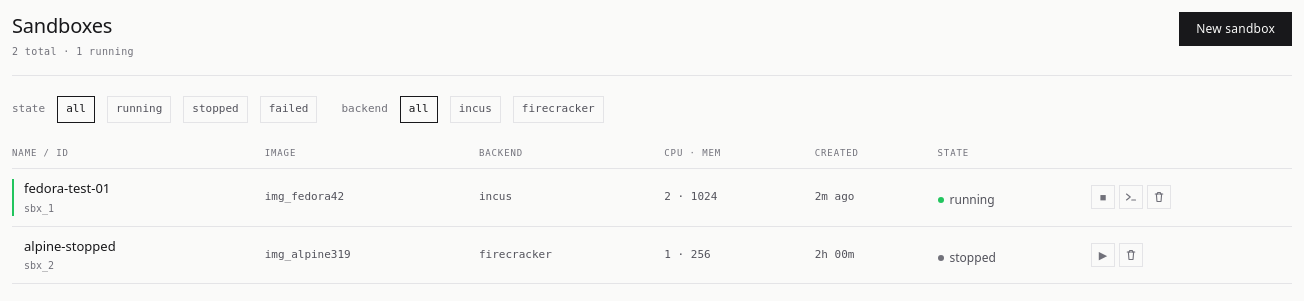
it: Sandboxes list › filters by state when a chip is clicked
Expected: the link "fedora-test-01" is shown, top-left (24, 179), bottom-right (110, 197)
Click the button "running" at (139, 109), box top-left (107, 96), bottom-right (171, 122)
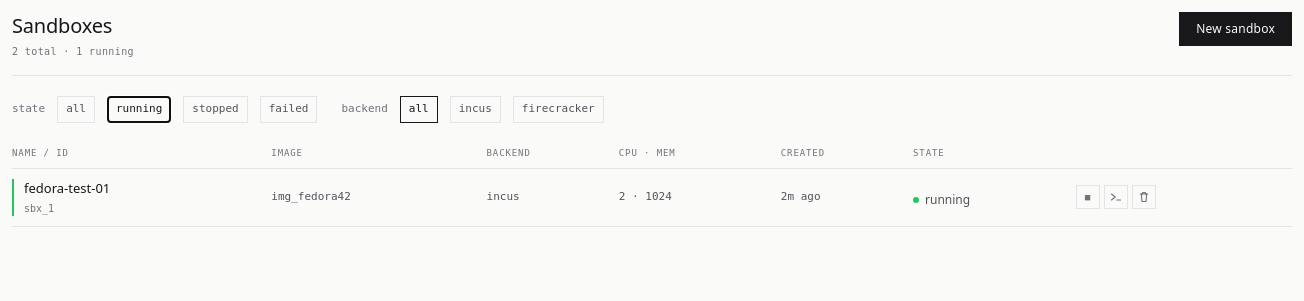
Expected: the link "fedora-test-01" is shown, top-left (24, 179), bottom-right (110, 197)
Now the link "alpine-stopped" is gone
